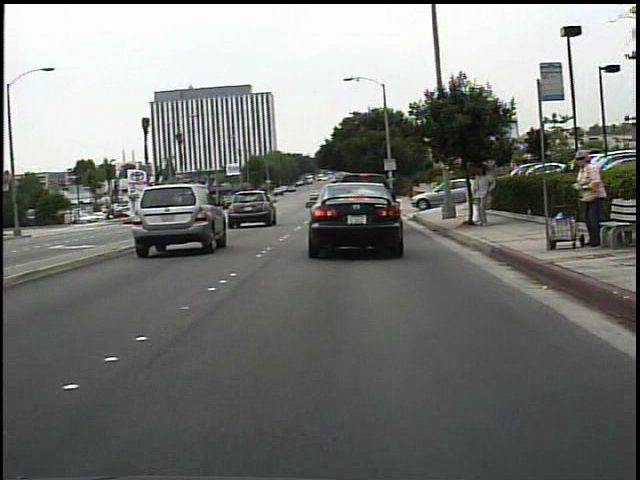person: (566, 146, 610, 251), (470, 160, 499, 229)
